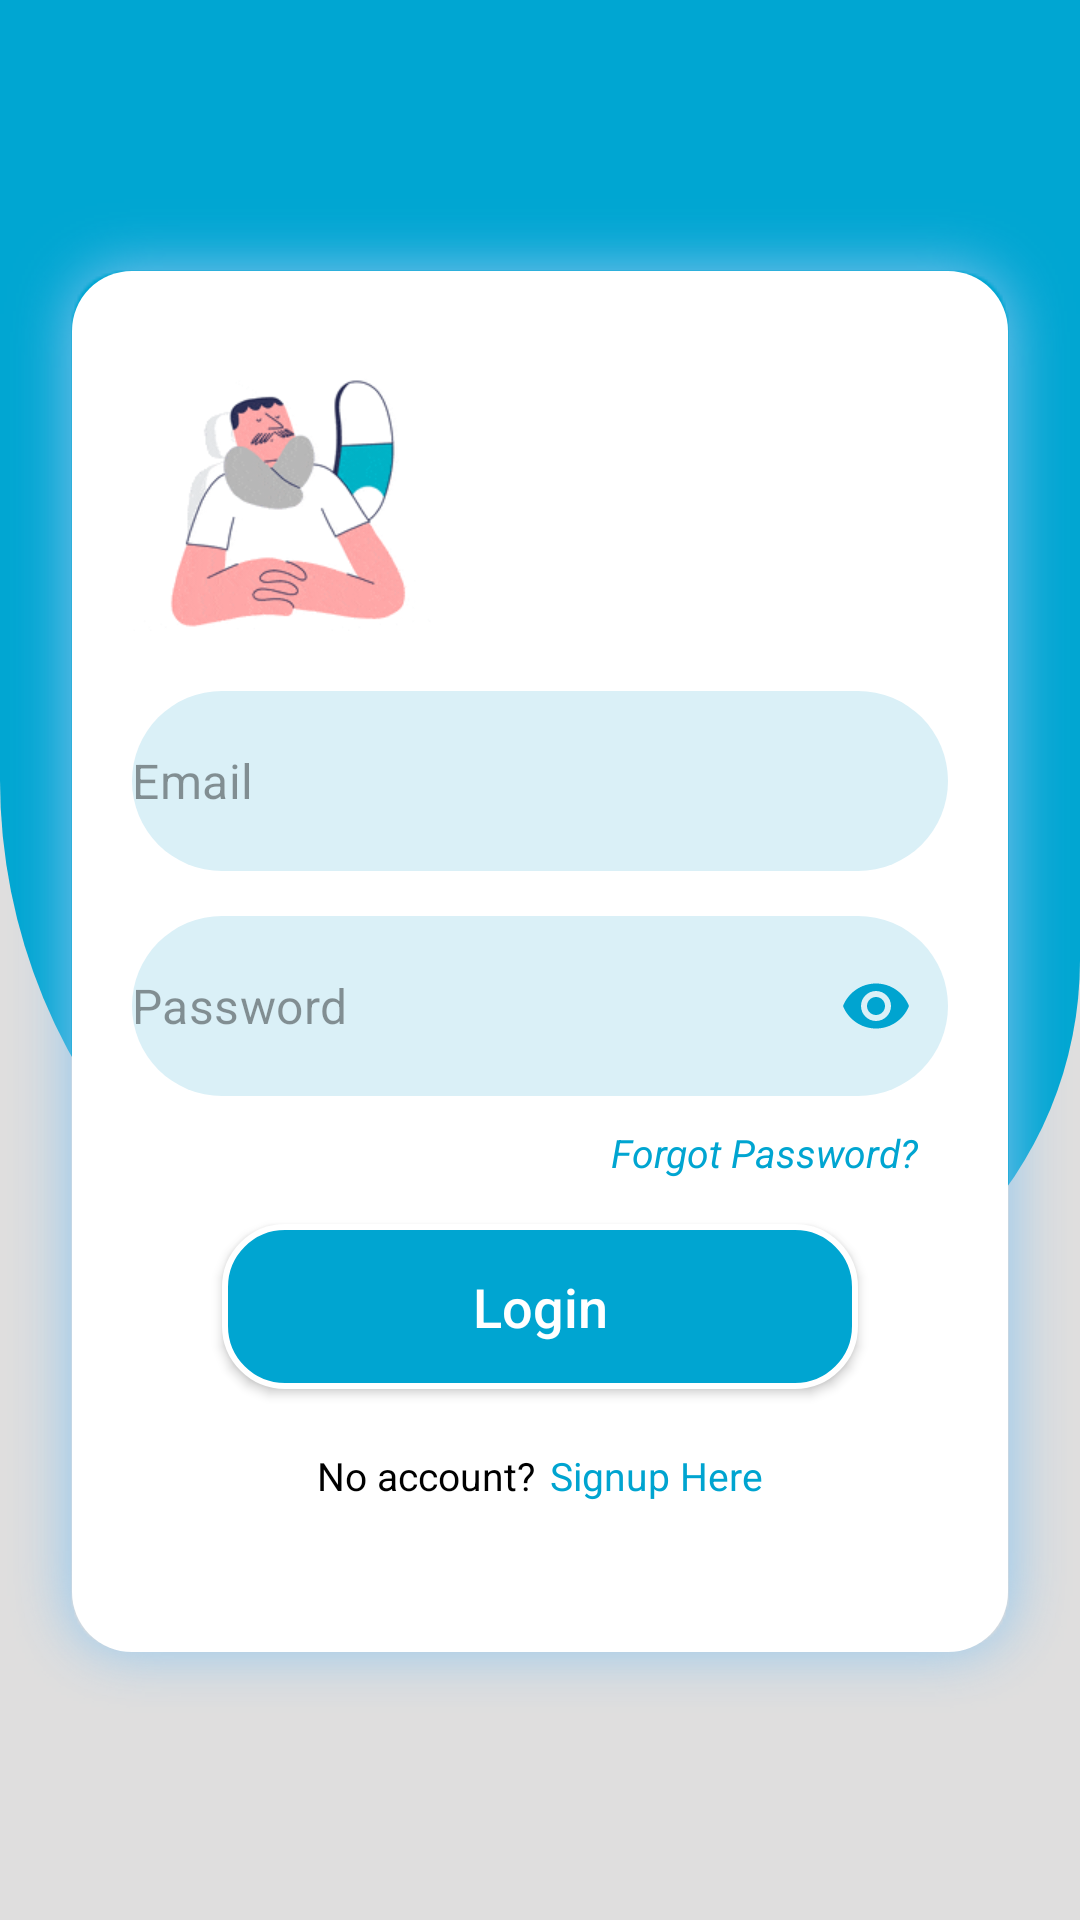

Where to tap for icons on this 1080px×1920px app screen, as (x,y):
nick pillow: (288,503)
